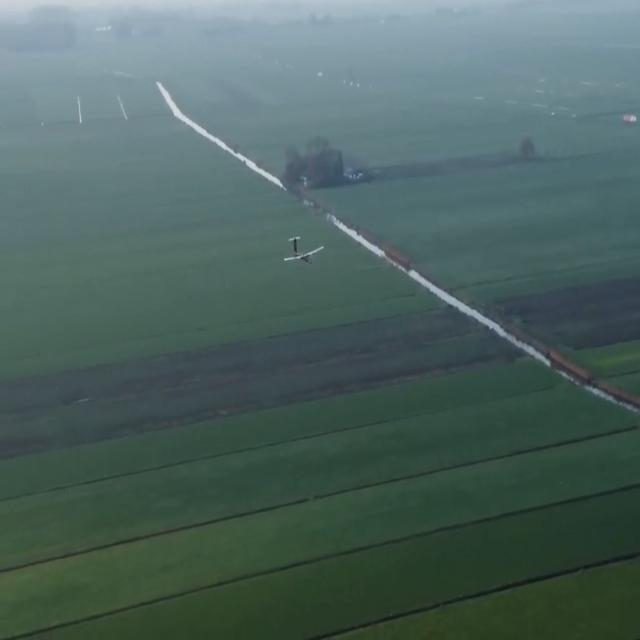iha: (284, 229, 325, 268)
